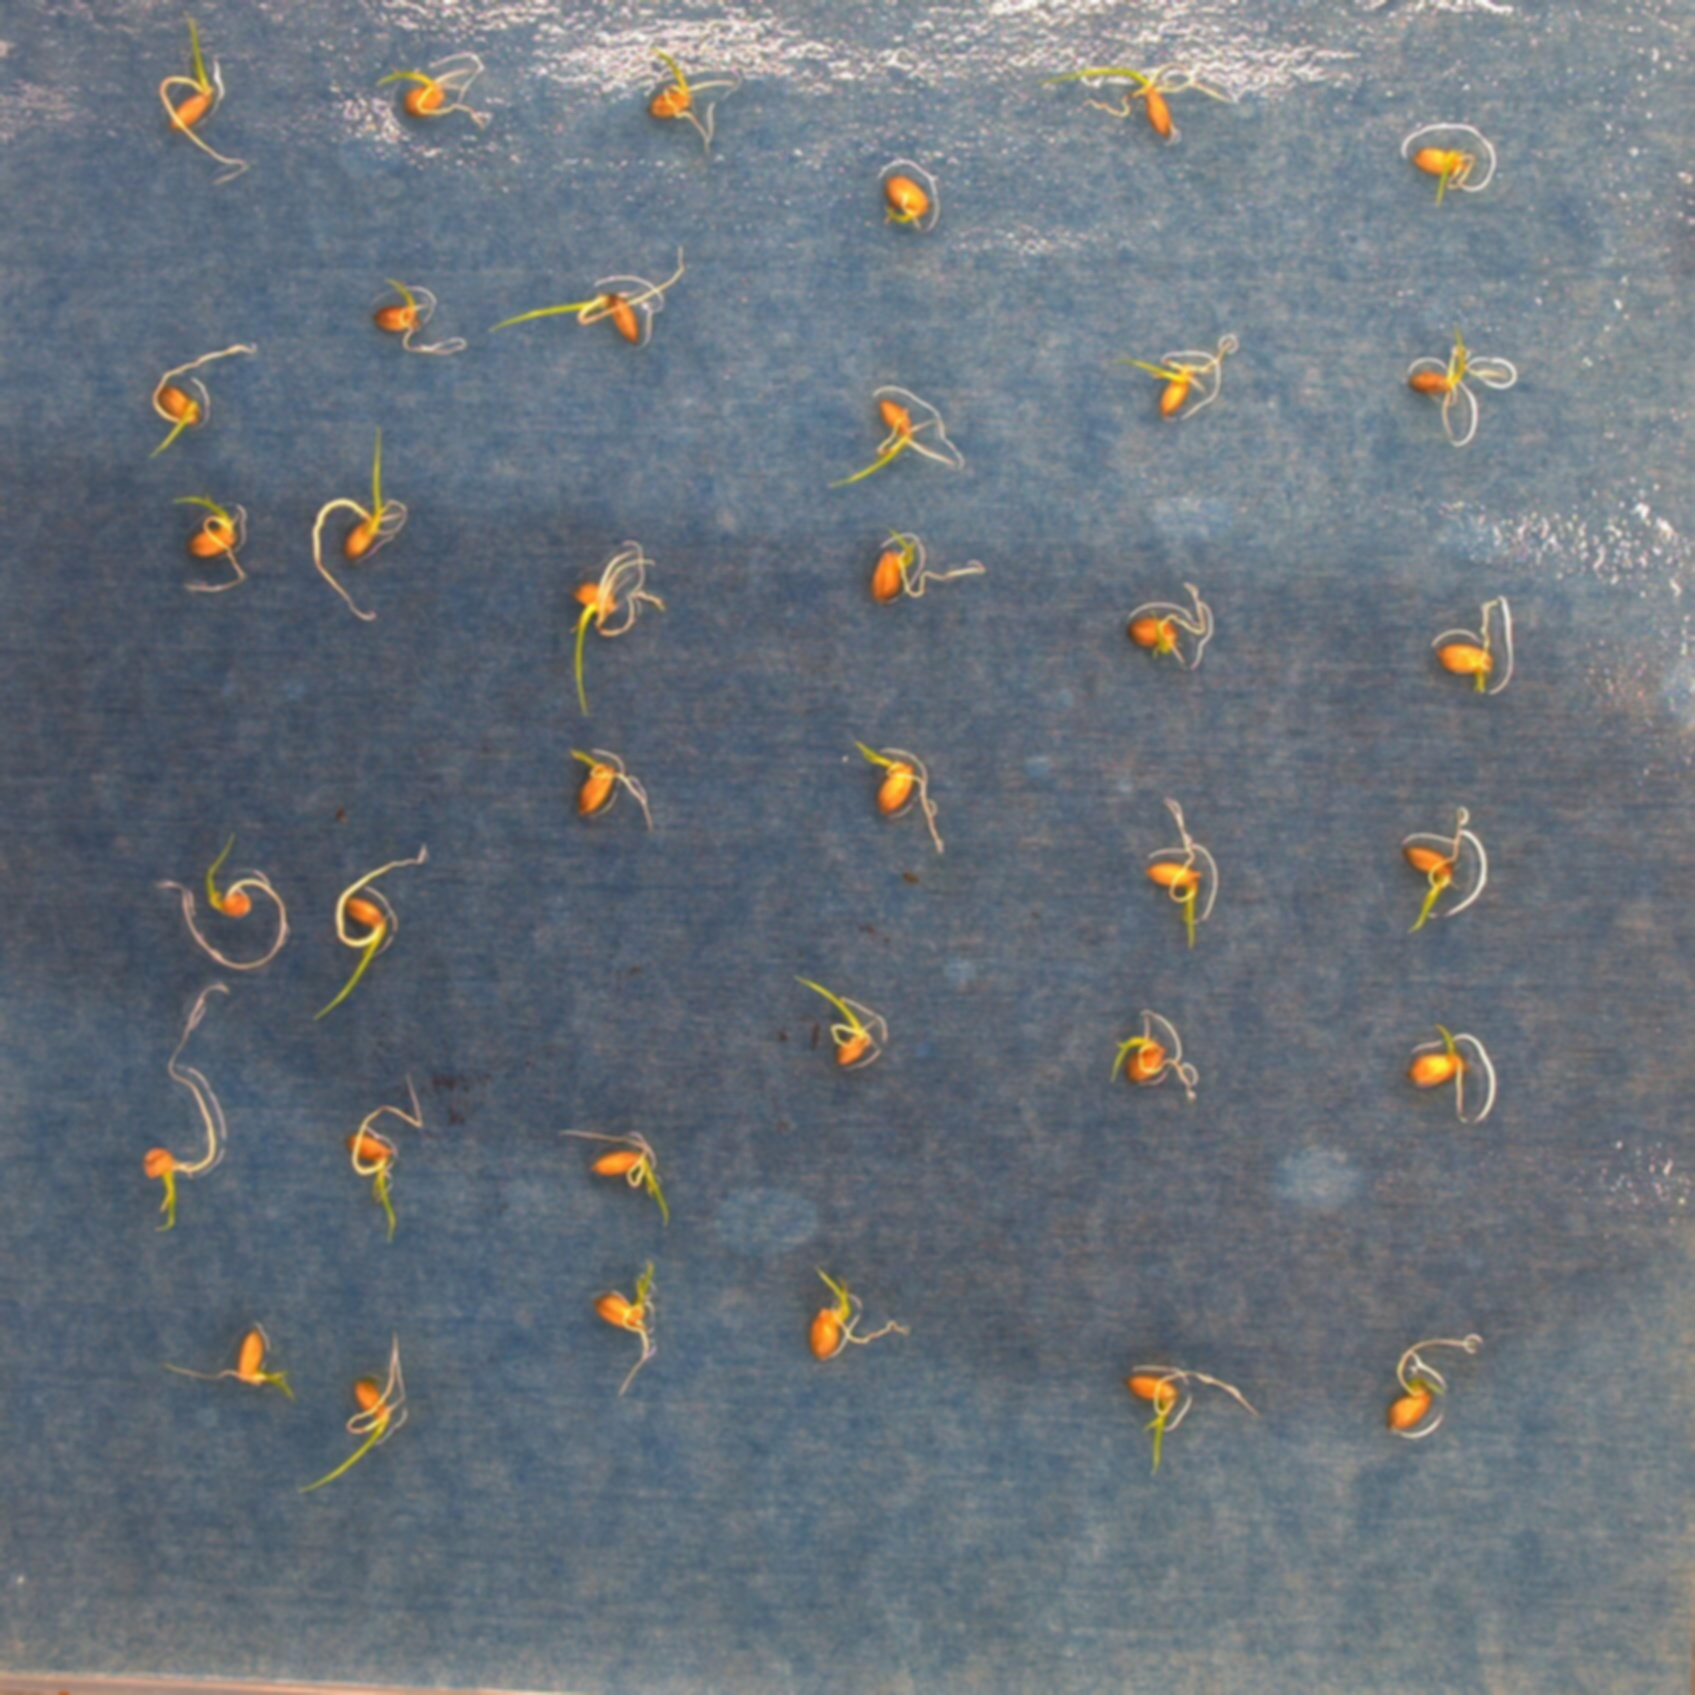not sprout: (875, 168, 947, 236)
sprout: (113, 981, 250, 1239), (300, 414, 435, 627), (477, 234, 688, 366), (275, 849, 424, 1021), (279, 1322, 411, 1503), (141, 826, 290, 973), (335, 1069, 442, 1256), (556, 1091, 681, 1229), (567, 542, 664, 719), (154, 20, 253, 183), (154, 328, 261, 473), (1133, 1357, 1257, 1478), (1062, 50, 1229, 138), (818, 386, 955, 492), (359, 29, 492, 133), (1121, 328, 1250, 435), (846, 730, 947, 860), (1138, 798, 1226, 944), (768, 969, 889, 1074), (798, 1277, 922, 1377), (632, 51, 742, 157), (868, 529, 990, 622), (590, 1260, 671, 1399), (174, 472, 250, 618), (1388, 1340, 1481, 1458), (1402, 809, 1485, 933), (365, 272, 470, 369), (1102, 1007, 1200, 1110), (1124, 553, 1220, 657), (1409, 338, 1506, 436), (171, 1322, 309, 1385), (1403, 1031, 1496, 1110), (567, 740, 649, 826), (1434, 605, 1507, 692), (1409, 137, 1485, 200)
